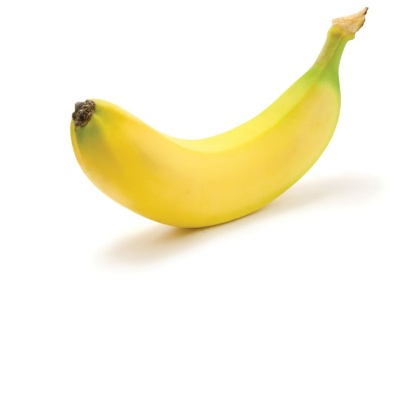chuoi: (56, 17, 361, 227)
